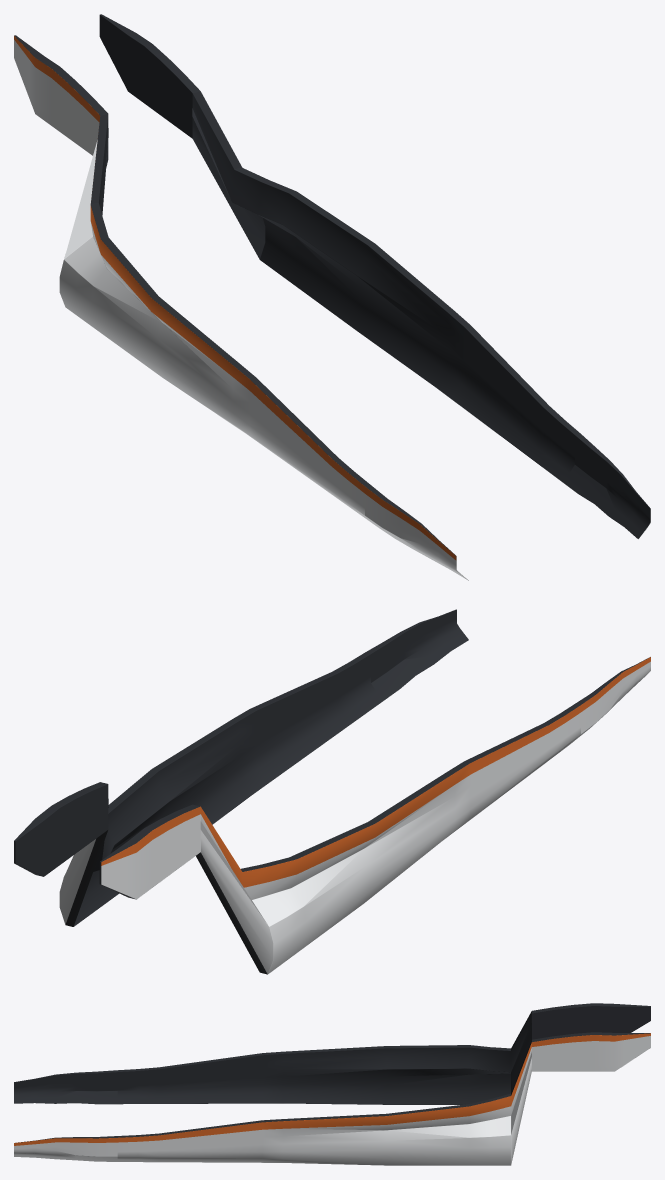
The model's file is nomad_armor_lg.fbx.
The picture shows the model from 3 angles, top to bottom: view 1: azimuth 30°, elevation 25°; view 2: azimuth 150°, elevation 25°; view 3: azimuth 270°, elevation 25°; orthographic projection. The views are drawn at different scales.
Parts seen in each view (by area): view 1: Armor_Streamliner; view 2: Armor_Streamliner; view 3: Armor_Streamliner.
Part boxes in pixels (x1,y1,x2,y2): Armor_Streamliner: (14, 14, 650, 580); Armor_Streamliner: (14, 609, 650, 974); Armor_Streamliner: (14, 1003, 650, 1165).
Bounding box in the file's own units: 158 × 121 × 605.
